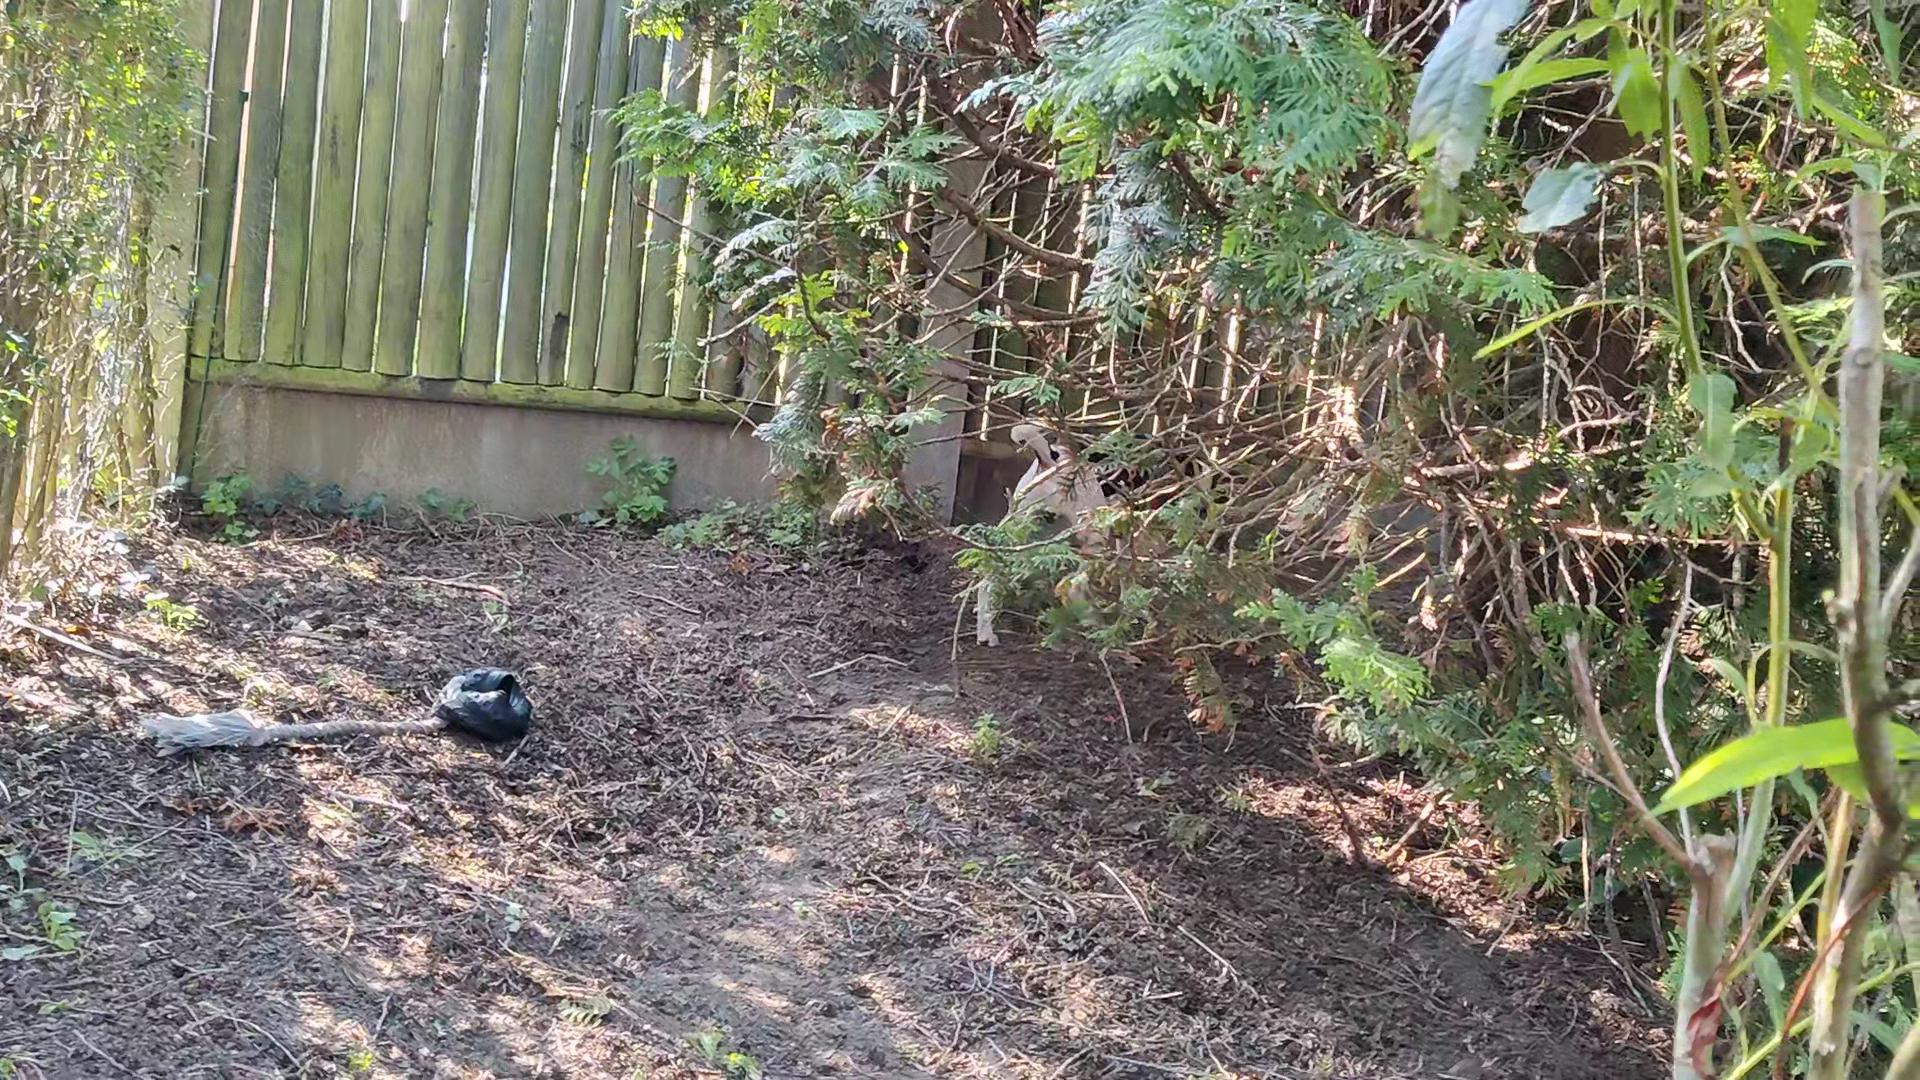Dog: (967, 415, 1247, 651)
